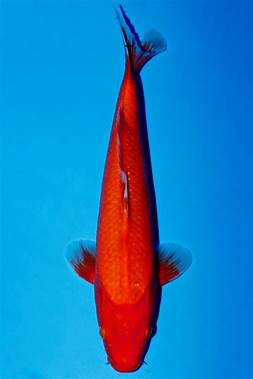red: (65, 3, 191, 371)
